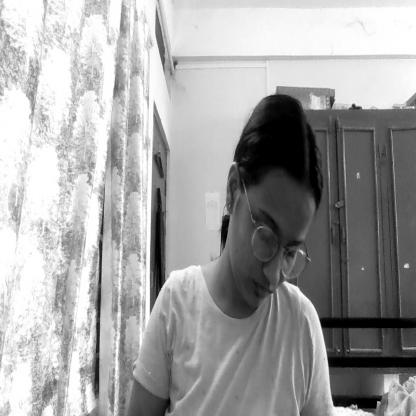Distracted: (233, 100, 322, 304)
